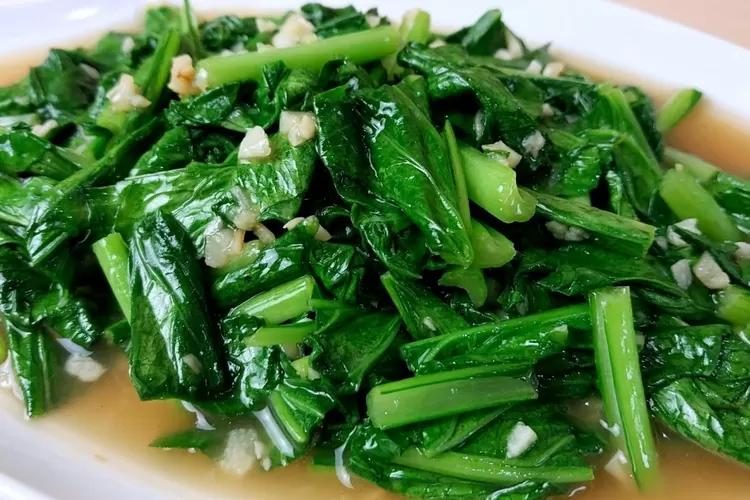buah_sayur_lainnya: (53, 81, 594, 336)
